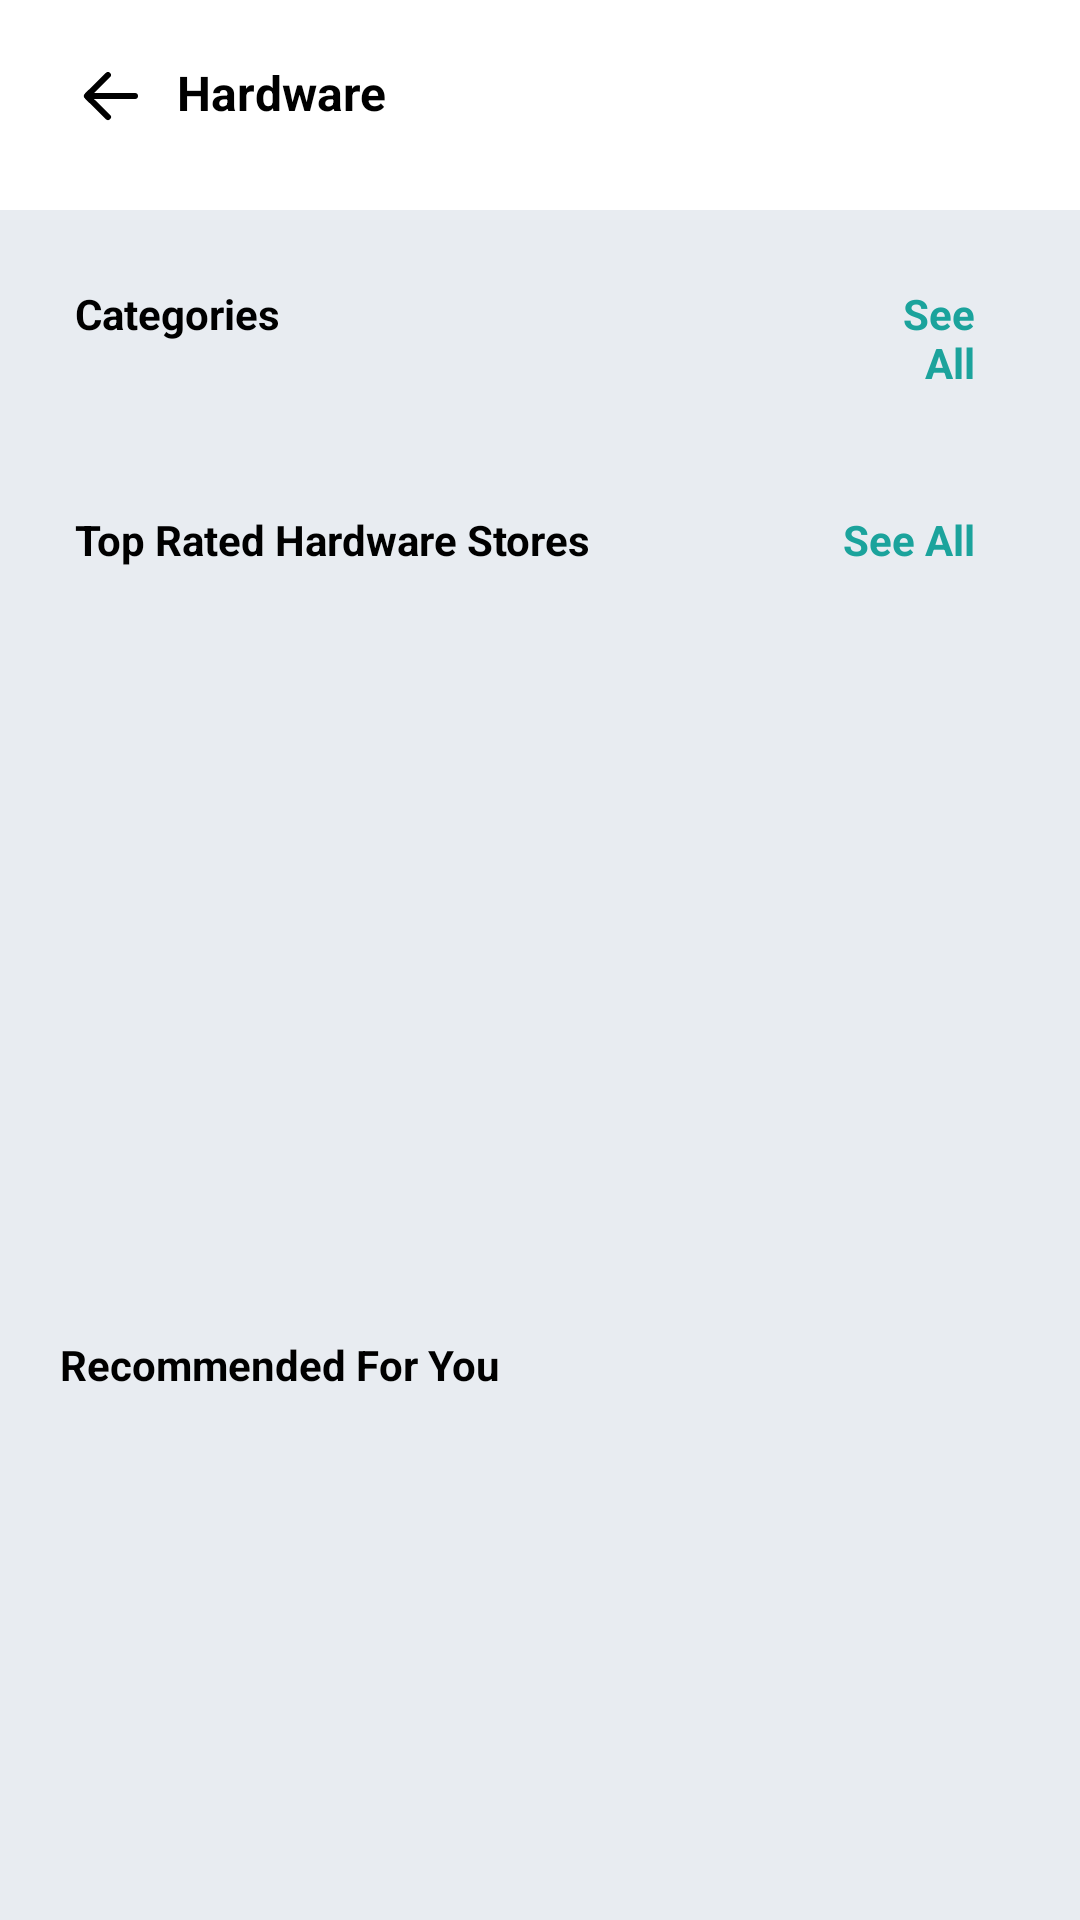

Screen size 1080 × 1920. Icon name, then its box in pixels as (x1, y1, x2, y2):
fluent arrow left: (83, 72, 138, 120)
